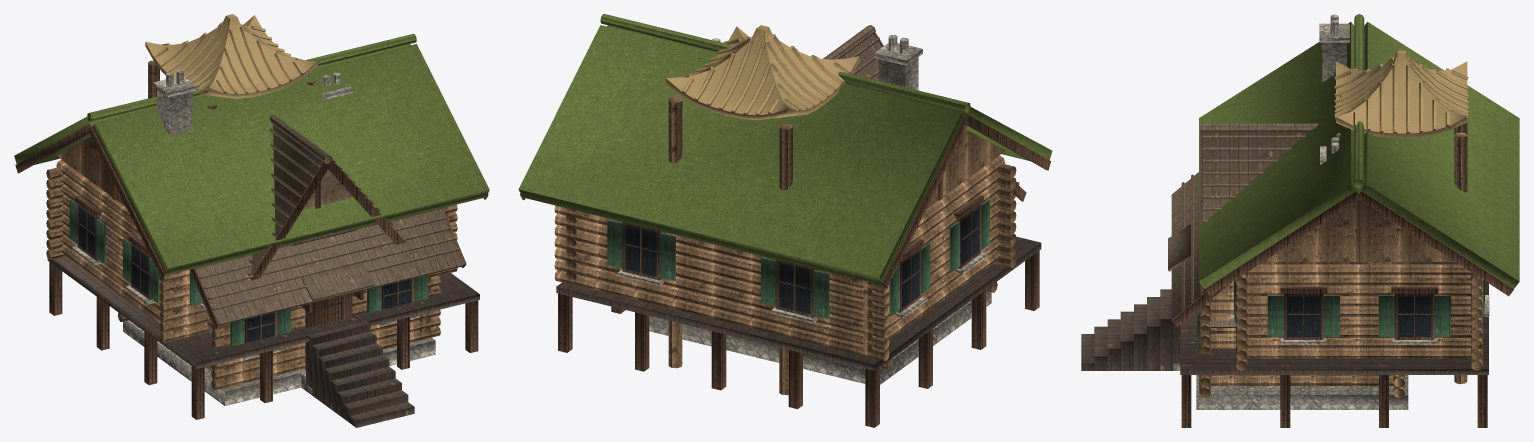
Rendered from WoodlandBuildings.gltf.
The picture shows the model from 3 angles, left to right: view 1: azimuth 30°, elevation 25°; view 2: azimuth 150°, elevation 25°; view 3: azimuth 270°, elevation 25°; orthographic projection. The views are drawn at different scales.
Parts seen in each view (by area): view 1: stiltLodge, logCabin, perchStand, wattleHut; view 2: stiltLodge, perchStand, logCabin, wattleHut; view 3: stiltLodge, logCabin, perchStand, wattleHut.
Boxes of the visible parts, x1,y1,x2,y2 form: stiltLodge: (14,34,489,427); logCabin: (118,72,466,405); perchStand: (145,14,317,109); wattleHut: (205,114,430,326); stiltLodge: (518,14,1052,427); perchStand: (665,25,859,395); logCabin: (649,38,1026,384); wattleHut: (823,25,883,80); stiltLodge: (1081,14,1519,427); logCabin: (1168,137,1408,409); perchStand: (1334,50,1468,383); wattleHut: (1200,123,1409,327).
Size of the model in its own units: 11.21 by 9.62 by 12.58.
13 materials, 13 textured.
